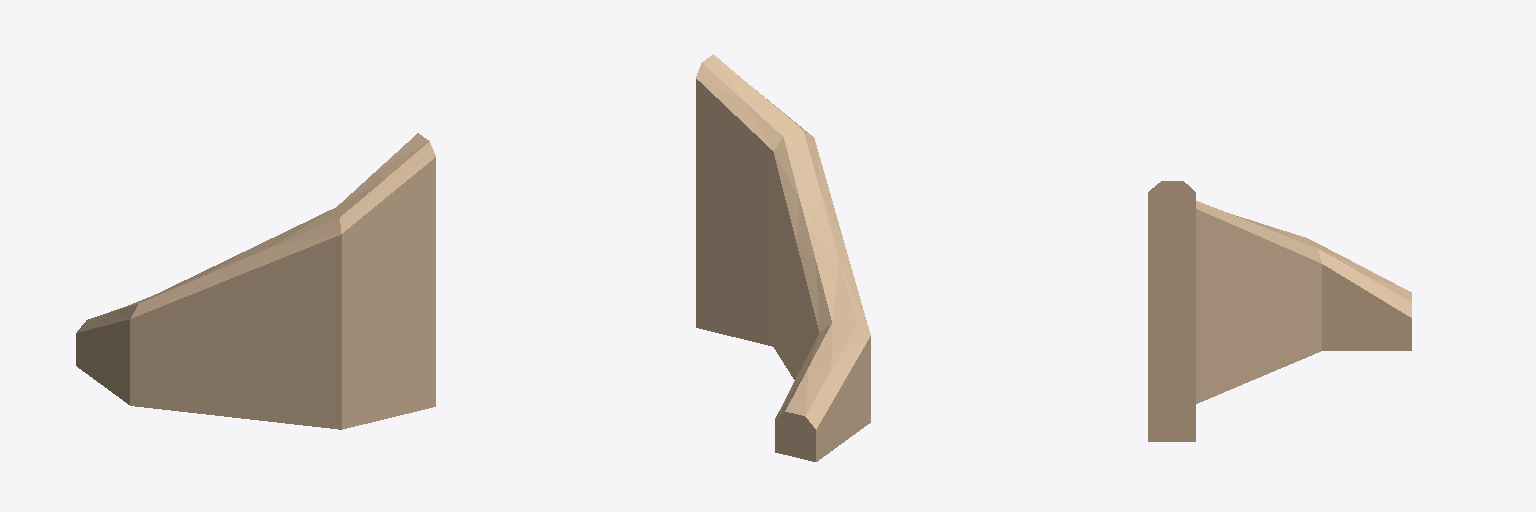
The model's file is Stairs_Coping_Ramp_Curved_Small.obj.
The picture shows the model from 3 angles: view 1: azimuth 30°, elevation 25°; view 2: azimuth 150°, elevation 25°; view 3: azimuth 270°, elevation 25°; orthographic projection.
Visible parts, largest first — view 1: object1; view 2: object1; view 3: object1.
Boxes of the visible parts, <box> form: object1: <box>76,133,435,429</box>; object1: <box>696,54,870,461</box>; object1: <box>1148,181,1411,441</box>.
Bounding box in the file's own units: 1.1 × 1.2 × 1.1.